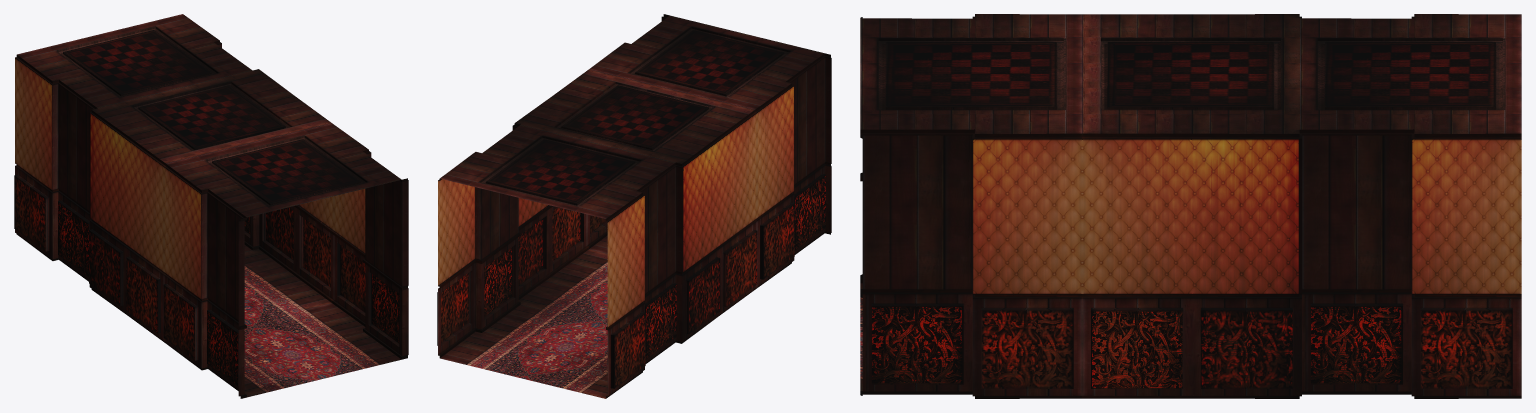
File: HallStraight.FBX
3 renders of one model, left to right at view 1: azimuth 30°, elevation 25°; view 2: azimuth 150°, elevation 25°; view 3: azimuth 270°, elevation 25°, orthographic. The views are drawn at different scales.
Visible parts, largest first — view 1: HallEnd02; view 2: HallEnd02; view 3: HallEnd02.
Boxes of the visible parts, x1,y1,x2,y2 form: HallEnd02: (14, 14, 408, 398); HallEnd02: (437, 14, 831, 398); HallEnd02: (860, 14, 1521, 398).
Bounding box in the file's own units: 69 × 67.09 × 152.
